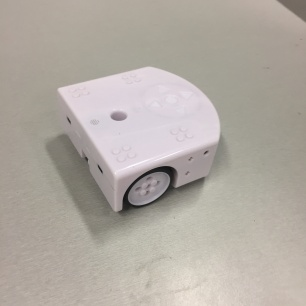thymio: (47, 60, 234, 214)
